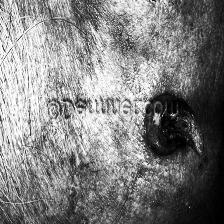Potentially Malignant Skin Tumors: (143, 92, 204, 162)
